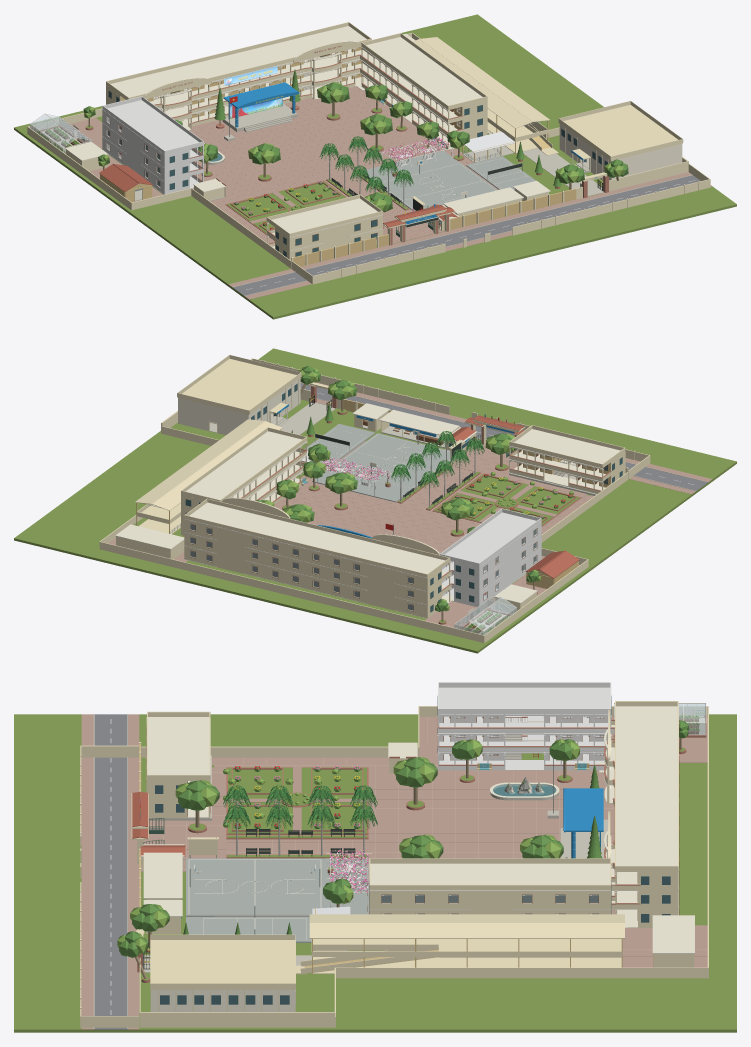
File: an-duong-school.glb
3 renders of one model, top to bottom at view 1: azimuth 30°, elevation 25°; view 2: azimuth 150°, elevation 25°; view 3: azimuth 270°, elevation 25°, orthographic. The views are drawn at different scales.
Visible parts, largest first — view 1: Campus_grass, Campus_cream, Campus_trim, Campus_tile, Campus_court, Campus_bwhite, Campus_asphalt, Campus_leaf, Campus_wall, Campus_stone, Campus_brick, Campus_btrim (+9 smaller); view 2: Campus_cream, Campus_grass, Campus_trim, Campus_tile, Campus_court, Campus_bwhite, Campus_leaf, Campus_leaflight, Campus_btrim, Campus_stone, Campus_brick, Campus_asphalt (+6 smaller); view 3: Campus_grass, Campus_cream, Campus_tile, Campus_trim, Campus_court, Campus_asphalt, Campus_btrim, Campus_leaf, Campus_bwhite, Campus_brick, Campus_stone, Campus_leaflight (+9 smaller).
Part boxes in pixels (x1,y1,x2,y2): Campus_grass: (14, 14, 736, 319); Campus_cream: (27, 22, 710, 284); Campus_trim: (30, 26, 682, 260); Campus_tile: (64, 77, 712, 299); Campus_court: (365, 150, 535, 211); Campus_bwhite: (102, 96, 203, 194); Campus_asphalt: (233, 175, 700, 295); Campus_leaf: (37, 69, 628, 229); Campus_wall: (100, 46, 576, 266); Campus_stone: (40, 59, 692, 296); Campus_brick: (35, 45, 608, 245); Campus_btrim: (102, 100, 204, 194); Campus_cream: (99, 355, 650, 642); Campus_grass: (14, 348, 736, 653); Campus_trim: (115, 378, 620, 634); Campus_tile: (108, 382, 712, 628); Campus_court: (304, 424, 456, 502); Campus_bwhite: (439, 508, 541, 607); Campus_leaf: (256, 365, 572, 634); Campus_leaflight: (262, 367, 574, 634); Campus_btrim: (442, 512, 541, 601); Campus_stone: (210, 382, 708, 634); Campus_brick: (241, 386, 611, 629); Campus_asphalt: (300, 383, 707, 490); Campus_grass: (14, 714, 736, 1032); Campus_cream: (80, 701, 708, 1027); Campus_tile: (81, 714, 707, 1029); Campus_trim: (139, 703, 706, 1011); Campus_court: (186, 858, 368, 942); Campus_asphalt: (94, 714, 127, 1029); Campus_btrim: (437, 687, 611, 770); Campus_leaf: (119, 715, 698, 957); Campus_bwhite: (438, 682, 614, 770); Campus_brick: (137, 715, 706, 982); Campus_stone: (93, 714, 705, 1029); Campus_leaflight: (117, 709, 704, 954).
Bounding box in the file's own units: 130 × 14.36 × 126.
Materials: 54 (2 with a texture image).
